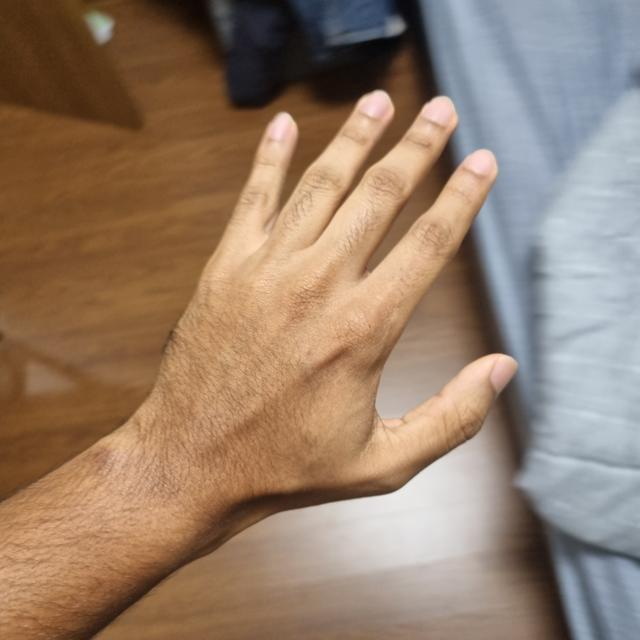Paper: (137, 95, 510, 511)
